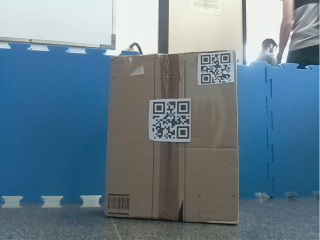caja: (107, 50, 235, 224)
